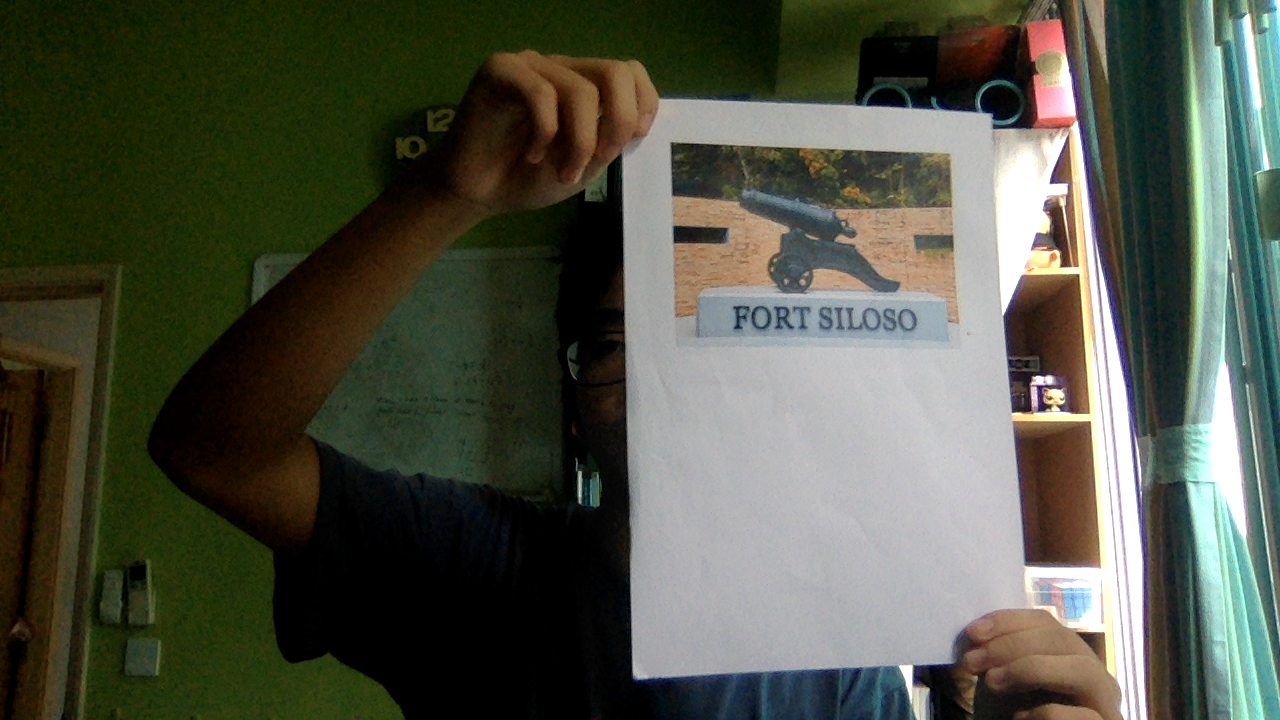siloso: (670, 133, 970, 347)
